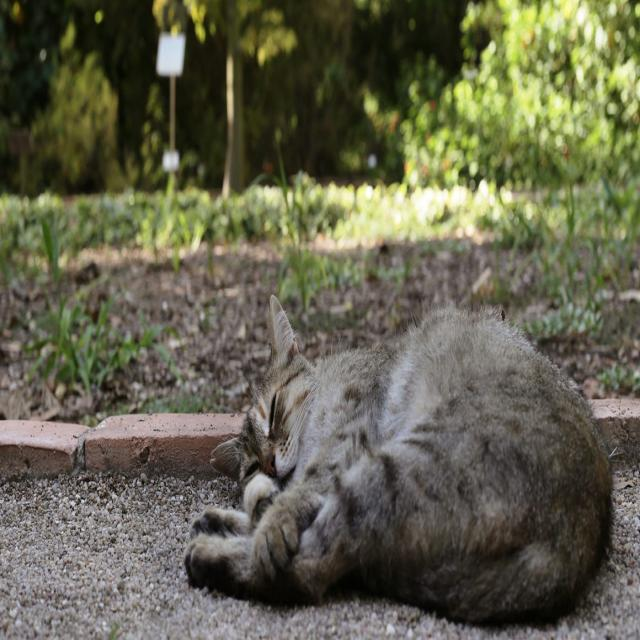cat: (185, 296, 611, 622)
